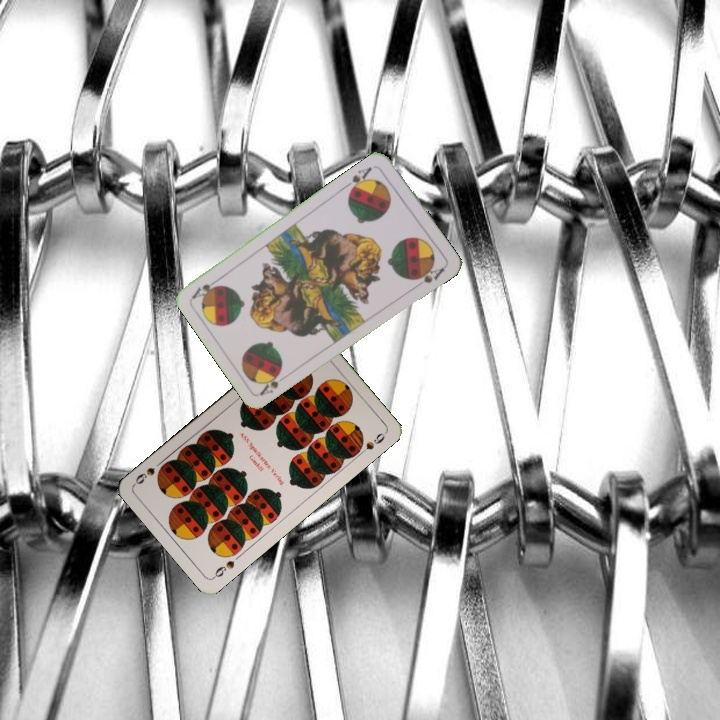S9: (209, 556, 237, 581)
SA: (256, 367, 292, 398), (342, 163, 375, 195)
